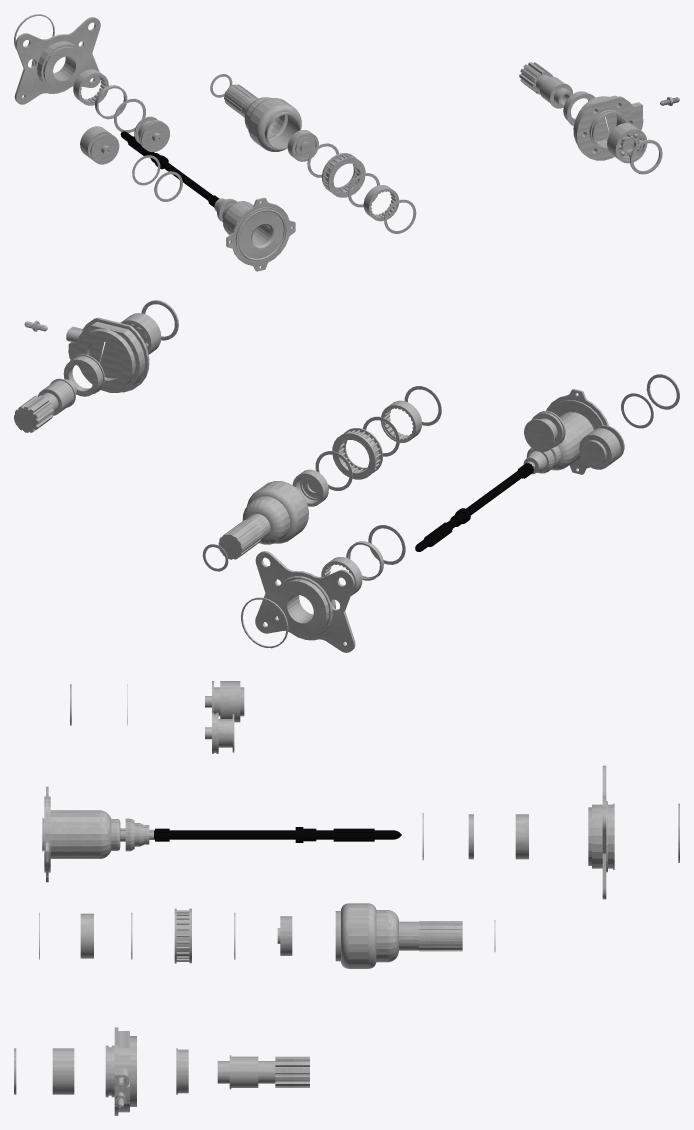
Rendered from pretelan fullset.fbx.
3 views of the same model, one above another, from view 1: azimuth 30°, elevation 25°; view 2: azimuth 150°, elevation 25°; view 3: azimuth 270°, elevation 25° (orthographic). The views are drawn at different scales.
Parts seen in each view (by area): view 1: pretelan fullset; view 2: pretelan fullset; view 3: pretelan fullset.
Boxes of the visible parts, x1,y1,x2,y2 form: pretelan fullset: (14,14,679,271); pretelan fullset: (14,300,679,652); pretelan fullset: (14,681,679,1115).
Bounding box in the file's own units: 773 × 150 × 634.
3 materials, 1 textured.
